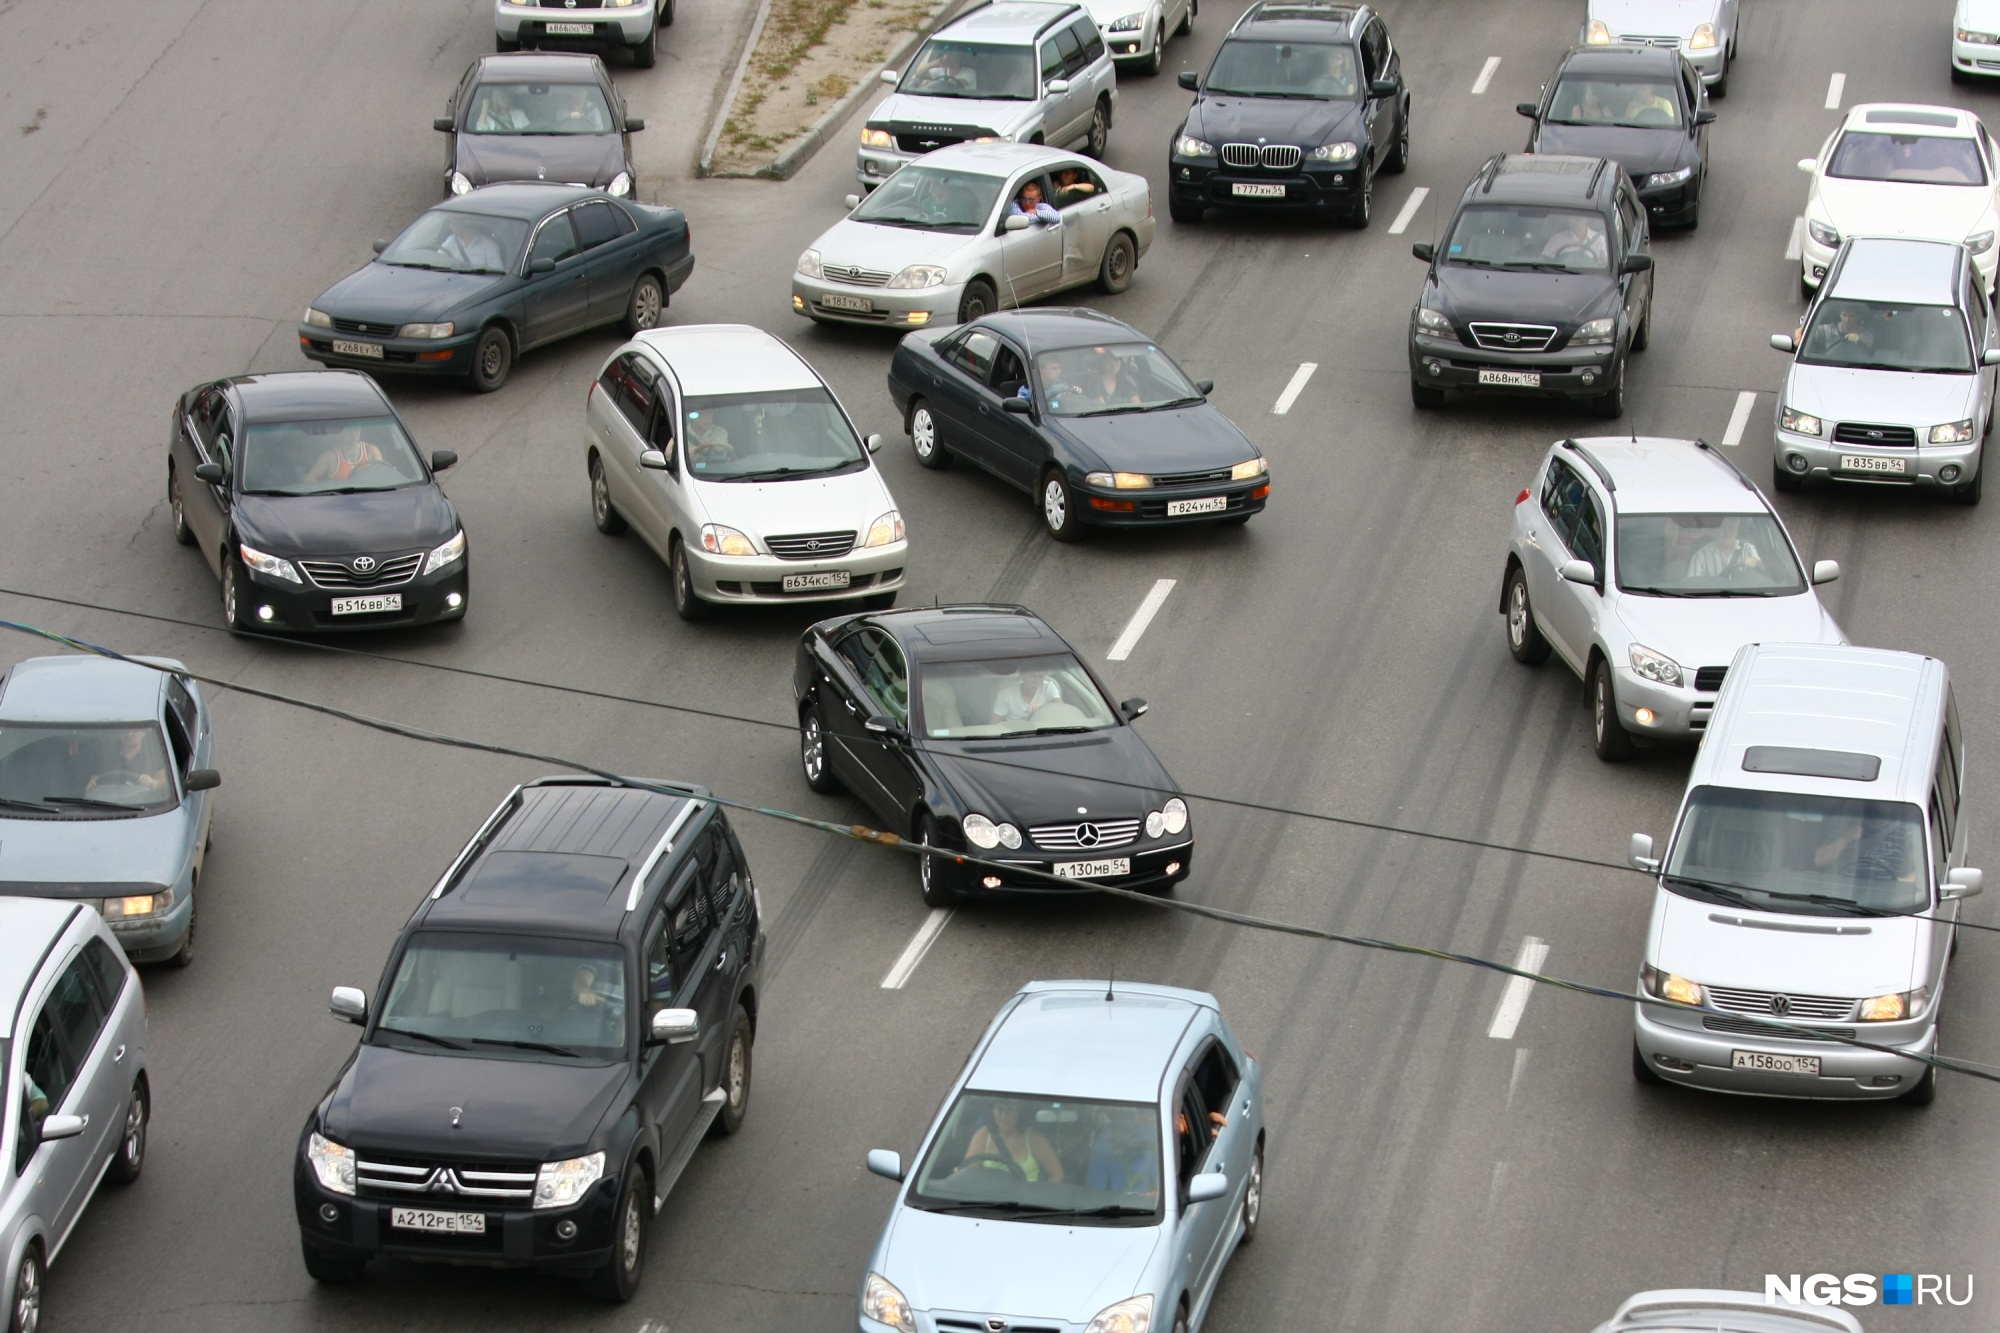Car: (294, 775, 764, 1302), (1630, 644, 1984, 1102), (859, 980, 1265, 1333), (794, 606, 1193, 906), (1500, 437, 1844, 760), (587, 324, 907, 617), (888, 308, 1270, 540), (299, 184, 693, 391), (167, 372, 468, 631), (0, 649, 222, 967), (791, 143, 1154, 327), (0, 897, 152, 1333), (1407, 153, 1655, 418), (1770, 238, 2000, 504), (1169, 4, 1410, 226), (857, 1, 1117, 189), (1799, 106, 2000, 298), (1517, 45, 1716, 228), (434, 54, 644, 198), (1582, 0, 1738, 95), (494, 0, 677, 68), (1596, 1290, 1860, 1333), (1083, 0, 1199, 74), (1952, 0, 2000, 80)
